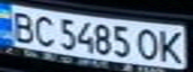4: (75, 19, 96, 54)
5: (112, 22, 136, 60), (54, 16, 78, 52)
8: (90, 20, 115, 56)
B: (3, 8, 39, 43)
C: (30, 12, 57, 47)
K: (154, 28, 187, 65)
O: (133, 26, 163, 62)
